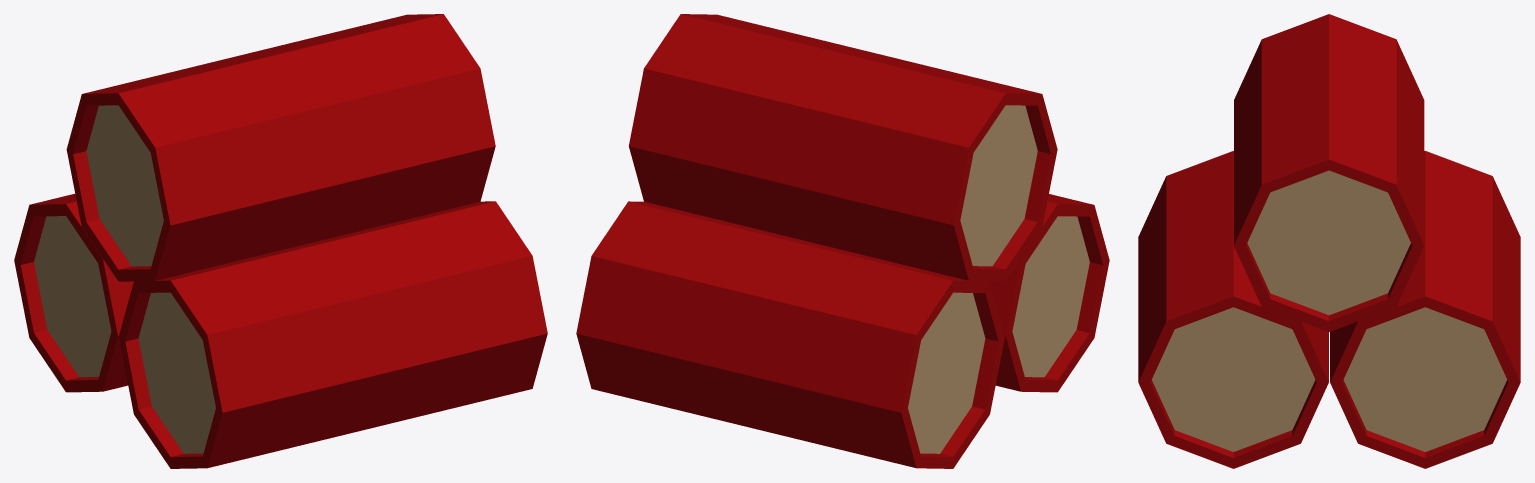
Rendered from wood_logs.fbx.
3 views of the same model, side by side, from view 1: azimuth 30°, elevation 25°; view 2: azimuth 150°, elevation 25°; view 3: azimuth 270°, elevation 25° (orthographic). The views are drawn at different scales.
Parts seen in each view (by area): view 1: Cylinder; view 2: Cylinder; view 3: Cylinder.
Part boxes in pixels (<box>): Cylinder: <box>14,14,547,468</box>; Cylinder: <box>576,14,1109,468</box>; Cylinder: <box>1138,14,1520,468</box>.
Bounding box in the file's own units: 227 × 225 × 252.
Materials: 1 (1 with a texture image).
